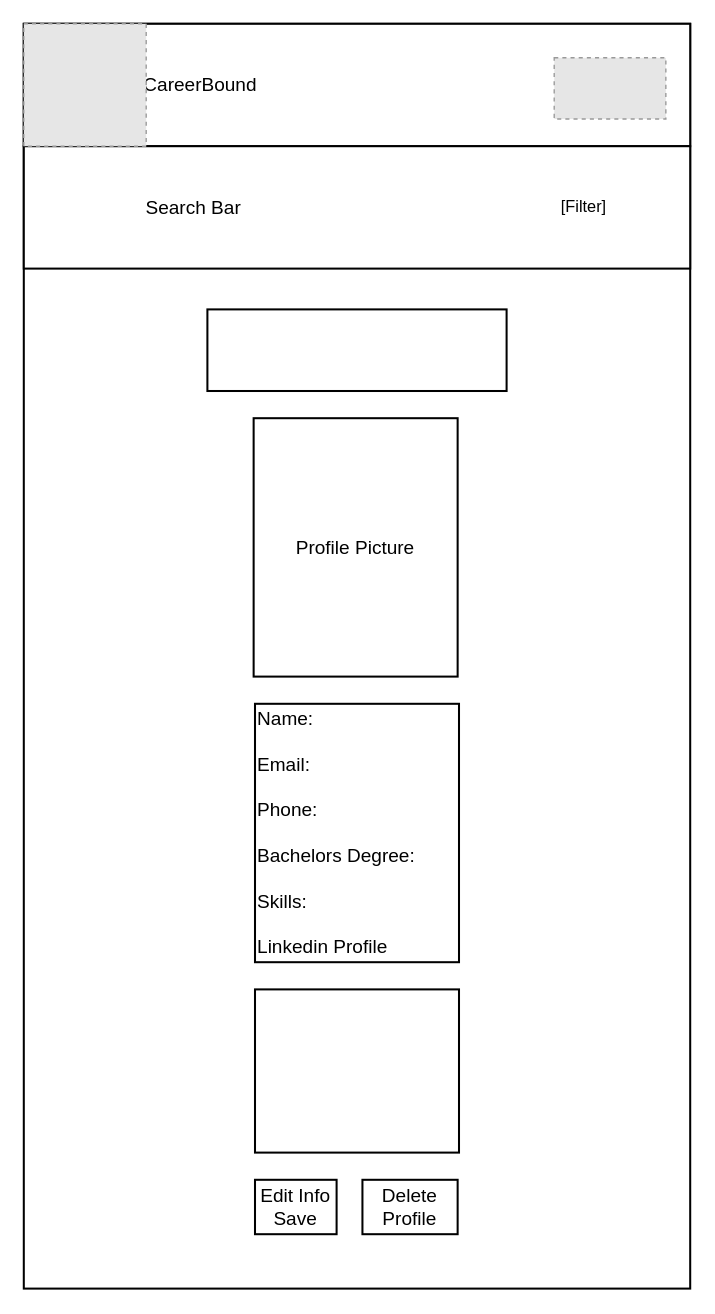
The diagram is 715 pixels wide and 1314 high, and some of its shapes have lost their labels. Grey dashed boxes stand in for pictures. The shapes that lost their labels are listed below. From the top down, each one's centre as x and y in pixels, then its label:
point 356,349: Section Title
point 356,1070: About Me
